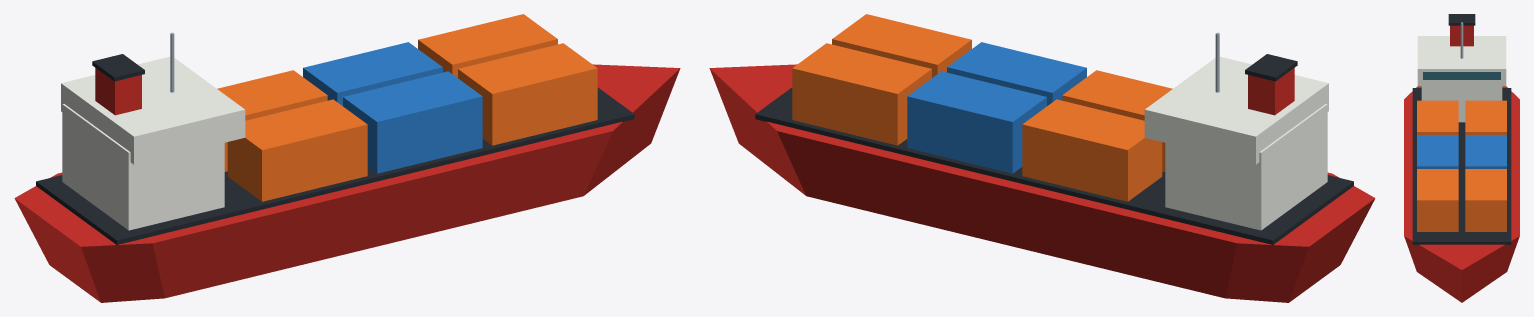
Rendered from cargo_ship.glb.
3 renders of one model, left to right at view 1: azimuth 30°, elevation 25°; view 2: azimuth 150°, elevation 25°; view 3: azimuth 270°, elevation 25°, orthographic. The views are drawn at different scales.
Parts seen in each view (by area): view 1: cargo_ship__static; view 2: cargo_ship__static; view 3: cargo_ship__static.
Boxes of the visible parts, x1,y1,x2,y2 form: cargo_ship__static: (14, 14, 680, 302); cargo_ship__static: (709, 14, 1375, 302); cargo_ship__static: (1404, 14, 1519, 302).
Size of the model in its own units: 33 by 11.3 by 8.6.
